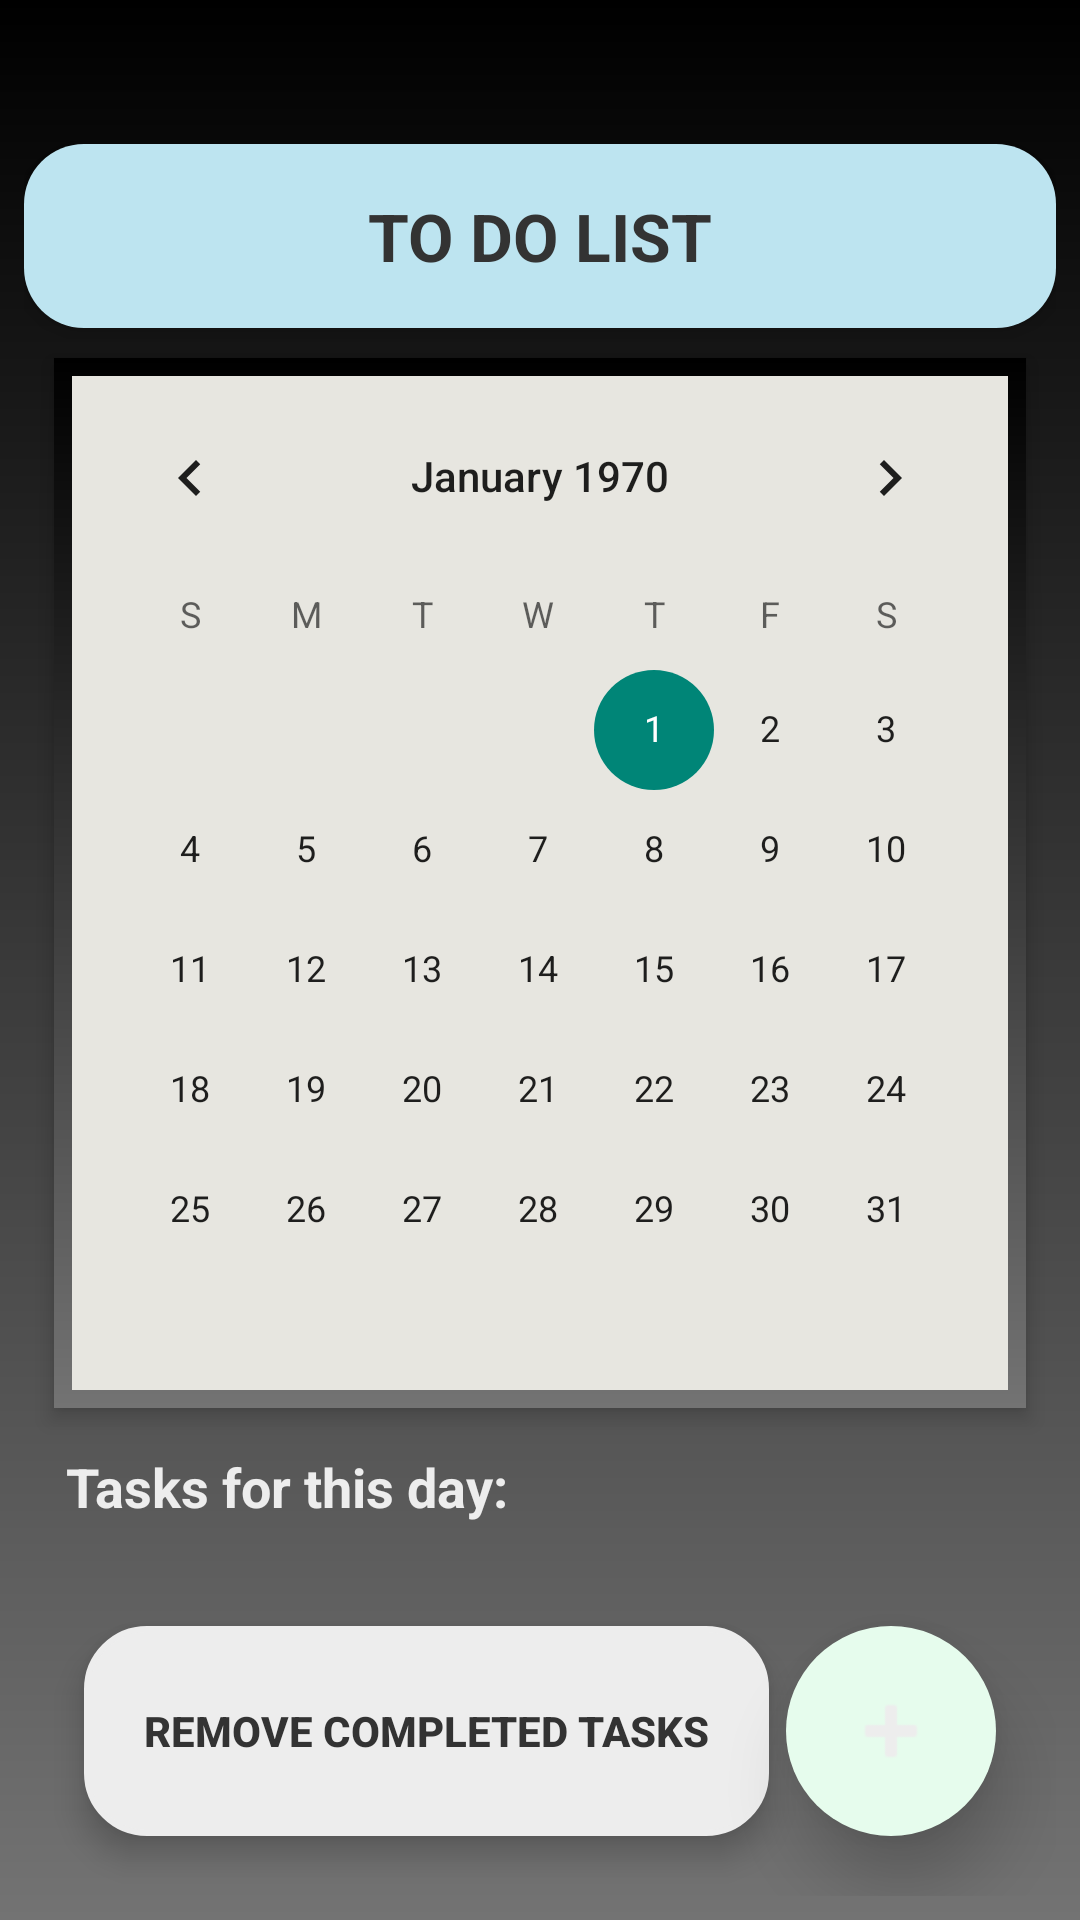

Where icons sit on this 1080px×1920px app screen, as BBox(x1, y1, x2, y2):
Add Task: BBox(786, 1626, 996, 1836)
